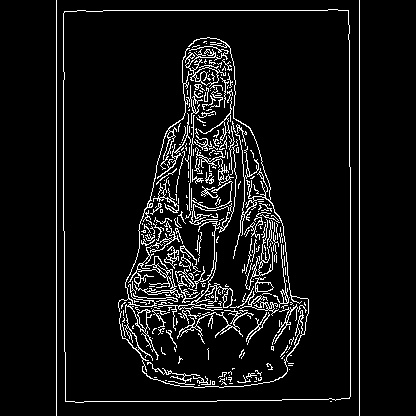buddha-sitting: (196, 206, 214, 358)
